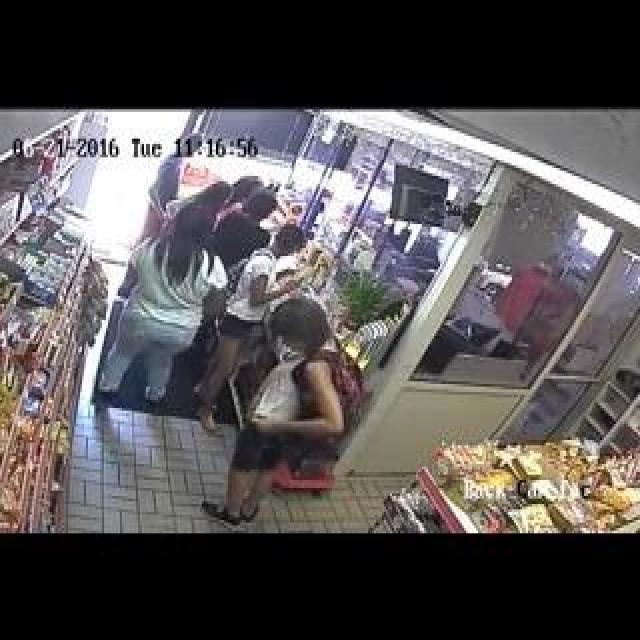Shoplifting: (220, 282, 378, 532)
